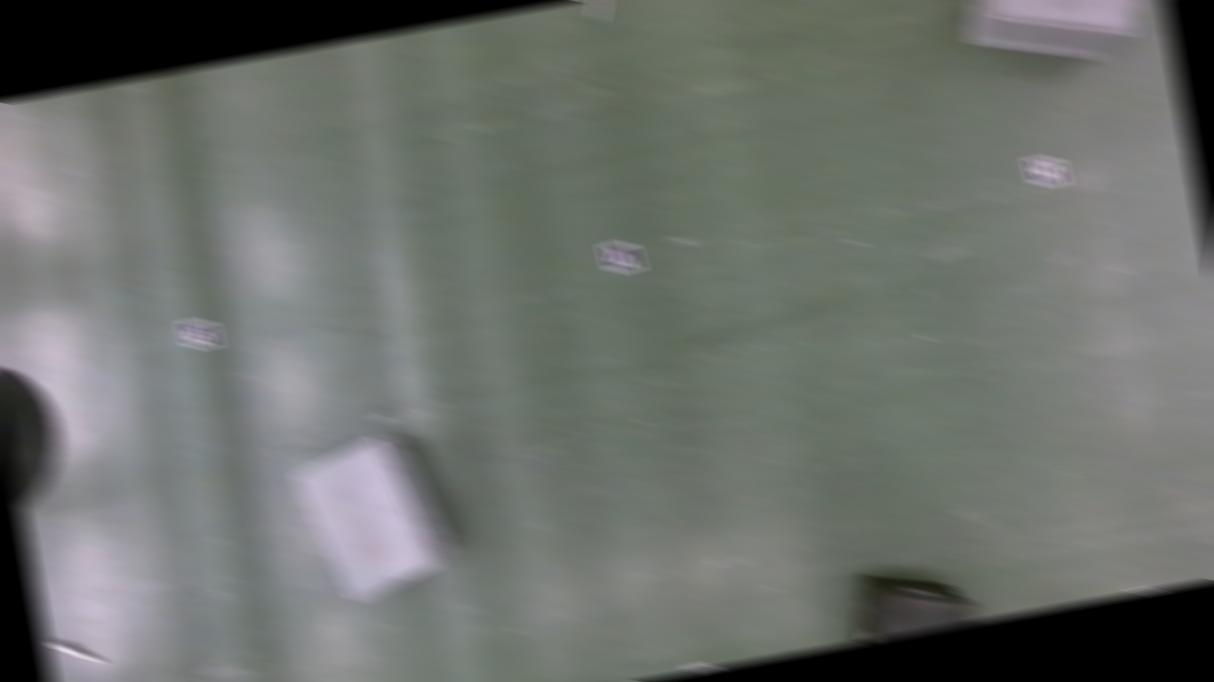probes: (48, 631, 104, 669), (585, 0, 618, 23)
rako: (280, 416, 460, 620), (829, 557, 981, 646)
